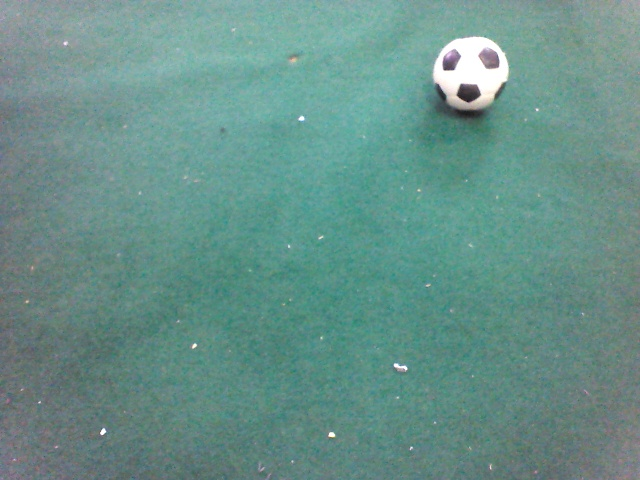ball: (231, 36, 315, 120)
